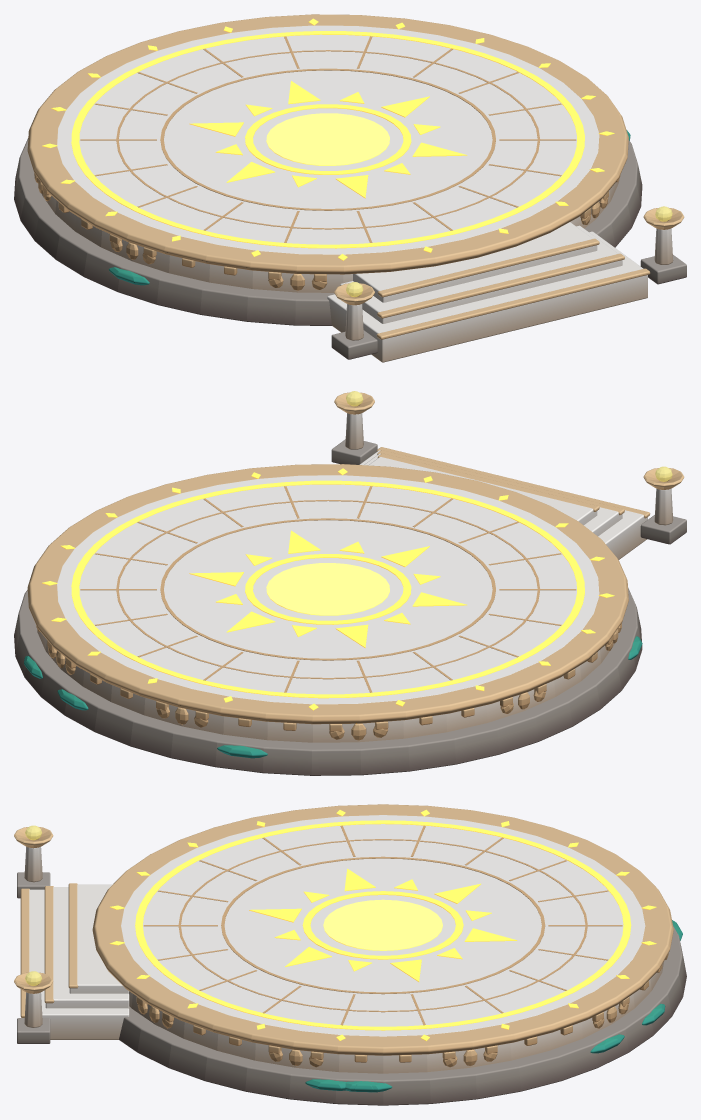
File: grove_dais_light.glb
3 renders of one model, top to bottom at view 1: azimuth 30°, elevation 25°; view 2: azimuth 150°, elevation 25°; view 3: azimuth 270°, elevation 25°, orthographic. The views are drawn at different scales.
Visible parts, largest first — view 1: grove_dais_light; view 2: grove_dais_light; view 3: grove_dais_light.
Boxes of the visible parts, <box> form: grove_dais_light: <box>14,14,686,362</box>; grove_dais_light: <box>14,391,686,775</box>; grove_dais_light: <box>14,804,686,1105</box>.
Bounding box in the file's own units: 12.74 × 1.81 × 14.05.
3 materials, 3 textured.
